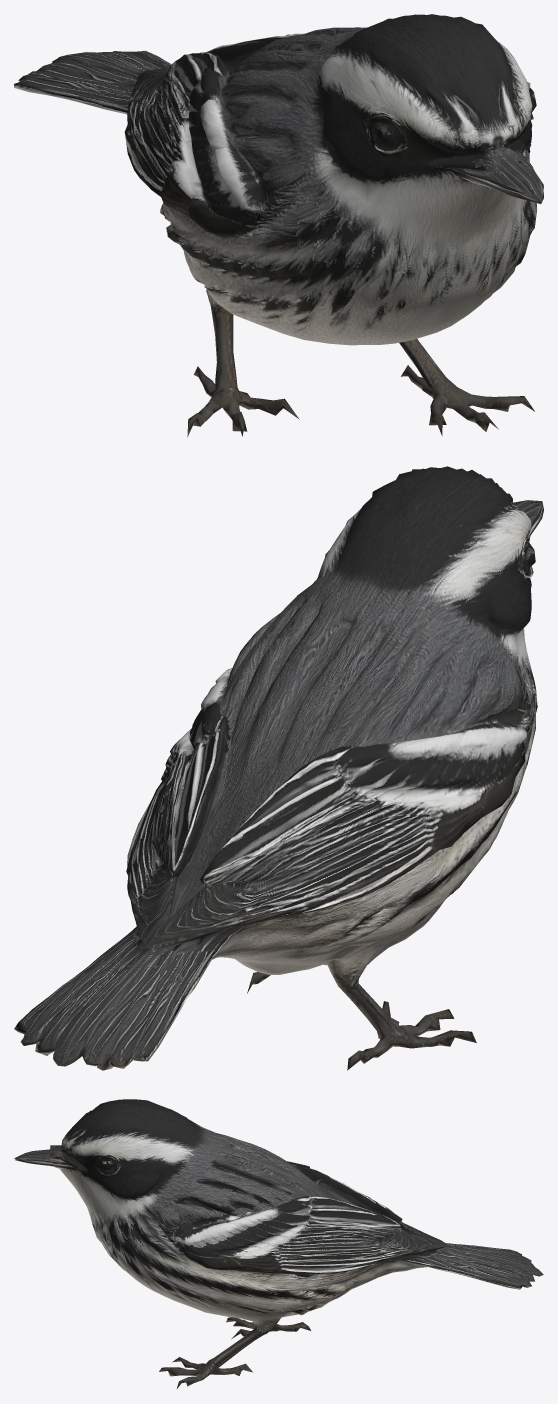
Rendered from ave_setophaga_spp.fbx.
The picture shows the model from 3 angles, top to bottom: view 1: azimuth 30°, elevation 25°; view 2: azimuth 150°, elevation 25°; view 3: azimuth 270°, elevation 25°; orthographic projection. The views are drawn at different scales.
Parts seen in each view (by area): view 1: tripo_node_0fae75dc; view 2: tripo_node_0fae75dc; view 3: tripo_node_0fae75dc.
Part boxes in pixels (x1=…): tripo_node_0fae75dc: x1=14, y1=14, x2=543, y2=437; tripo_node_0fae75dc: x1=14, y1=466, x2=543, y2=1070; tripo_node_0fae75dc: x1=14, y1=1099, x2=543, y2=1388.
Bounding box in the file's own units: 35.34 × 51.14 × 98.66.
Materials: 1 (1 with a texture image).
